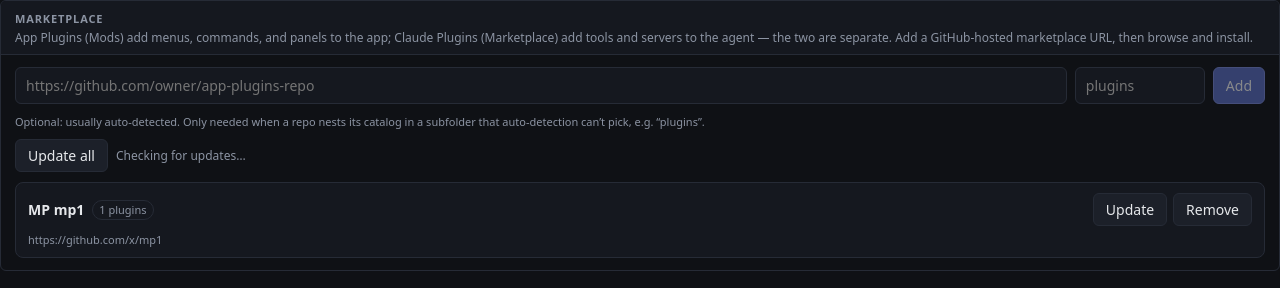
AppPluginMarketplaceSection check/pull races › a slow check resolving after a row pull does not resurrect the cleared badge
This screenshot has width=1280, height=288.
What coordinates should you click on to do the following:
click the button with class "marketplace-update-btn"
I would click on:
 (1130, 210)
Its box is [1093, 193, 1167, 226].
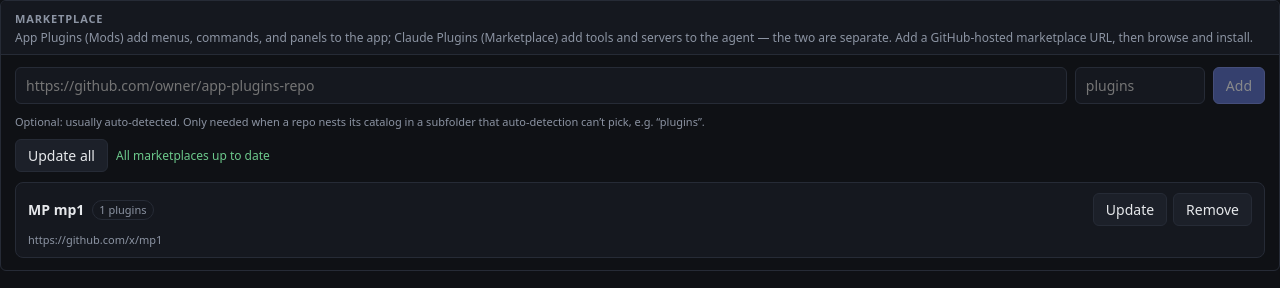
Result: the text "All marketplaces up to date" is shown at [116, 147, 270, 164]
